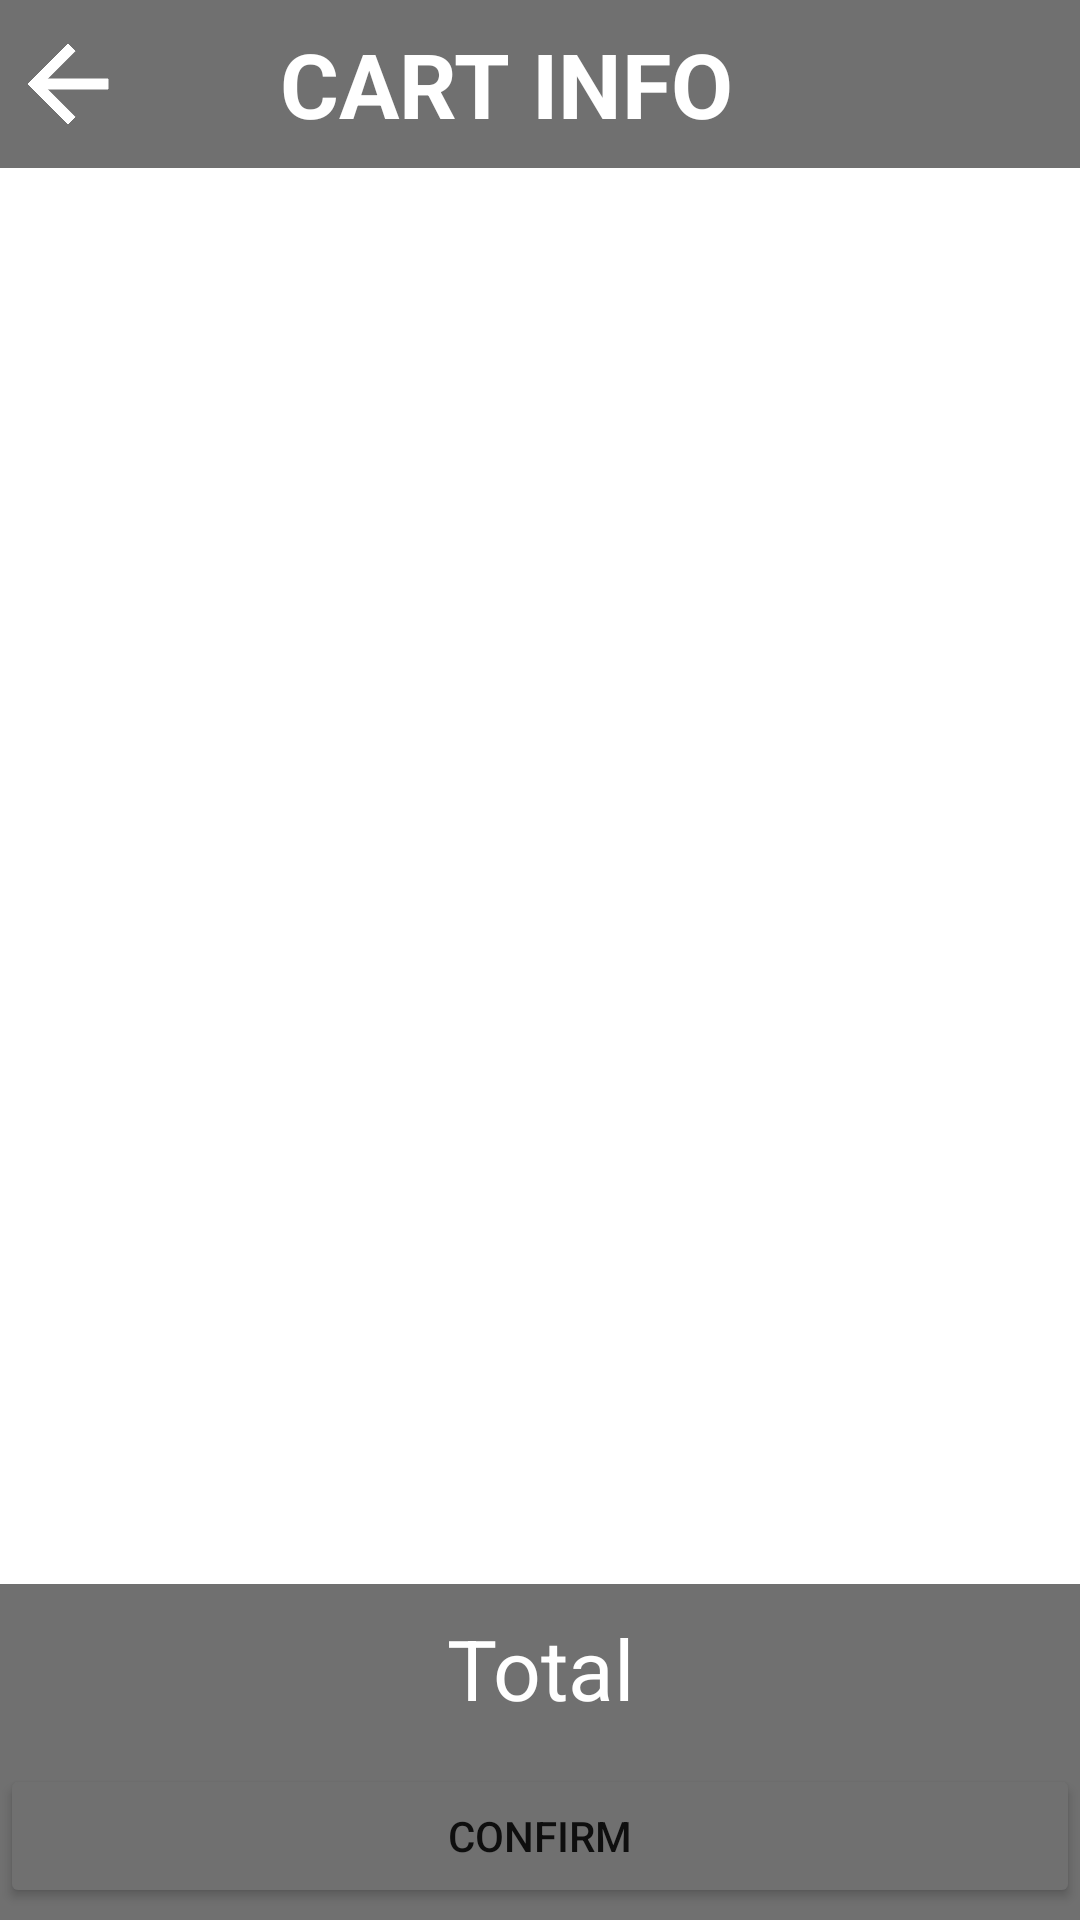

Where icons sit on this 1080 × 1920 app screen, as (x1, y1, x2, y2):
arrow back: (28, 44, 109, 124)
